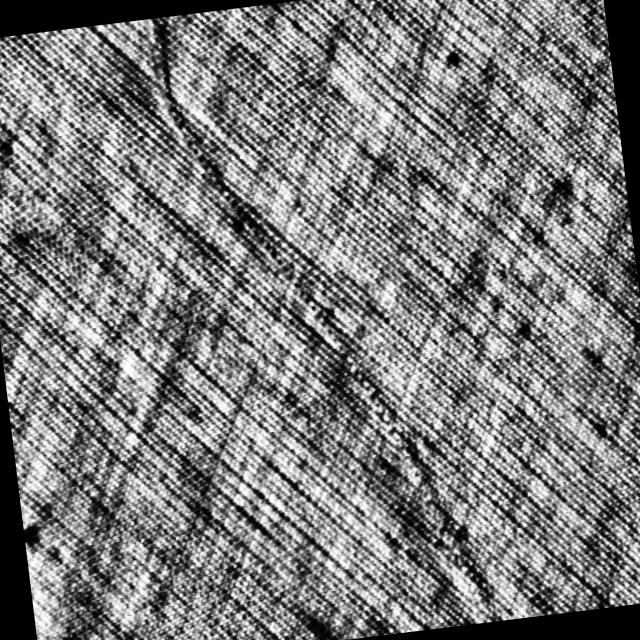gray stitch: (145, 0, 500, 640)
